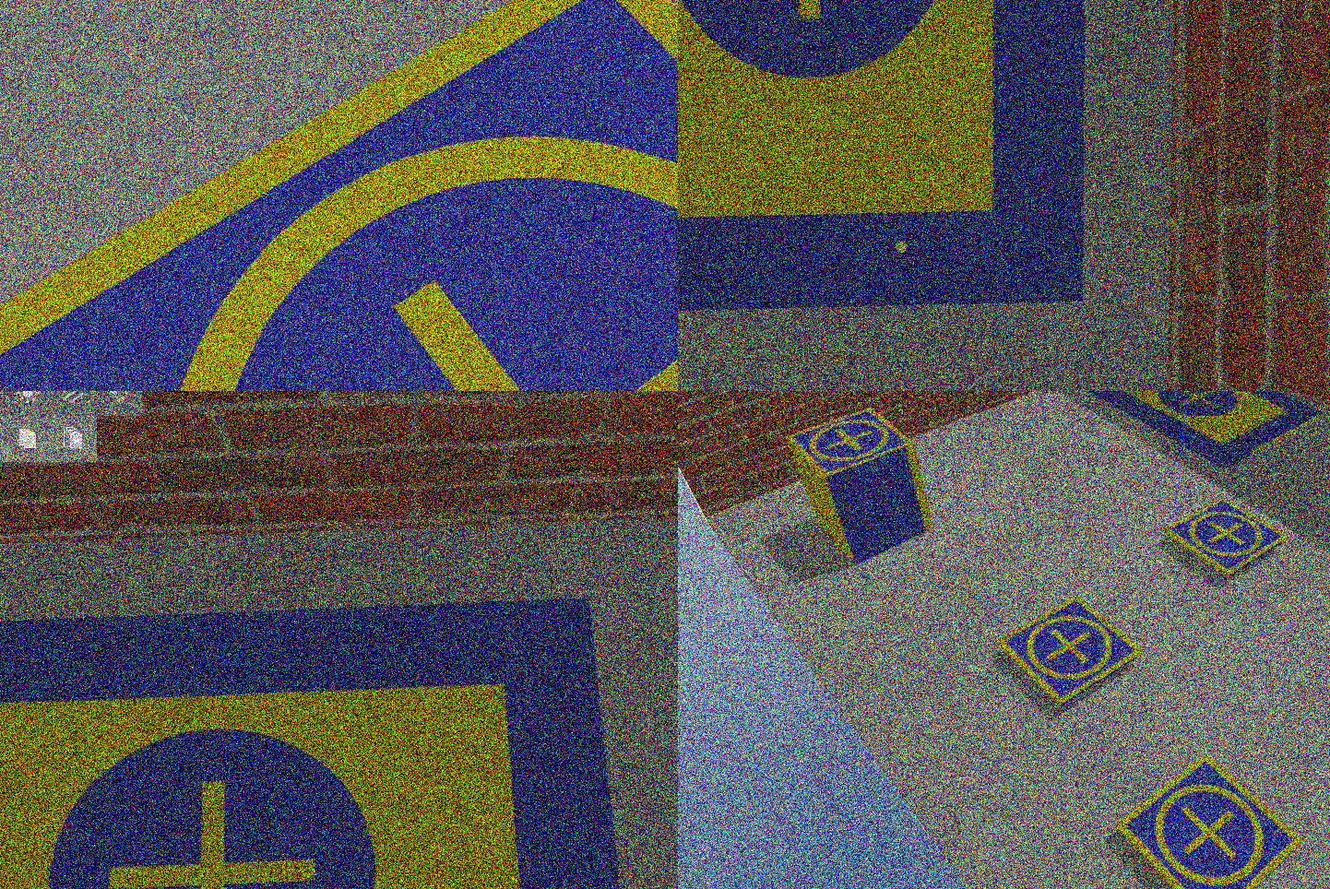large_base: (1, 600, 652, 889), (678, 1, 1091, 317), (1079, 391, 1325, 472)
small_base: (1, 1, 678, 391), (1114, 756, 1305, 889), (1000, 595, 1146, 708), (1161, 499, 1289, 579), (786, 408, 919, 483)
